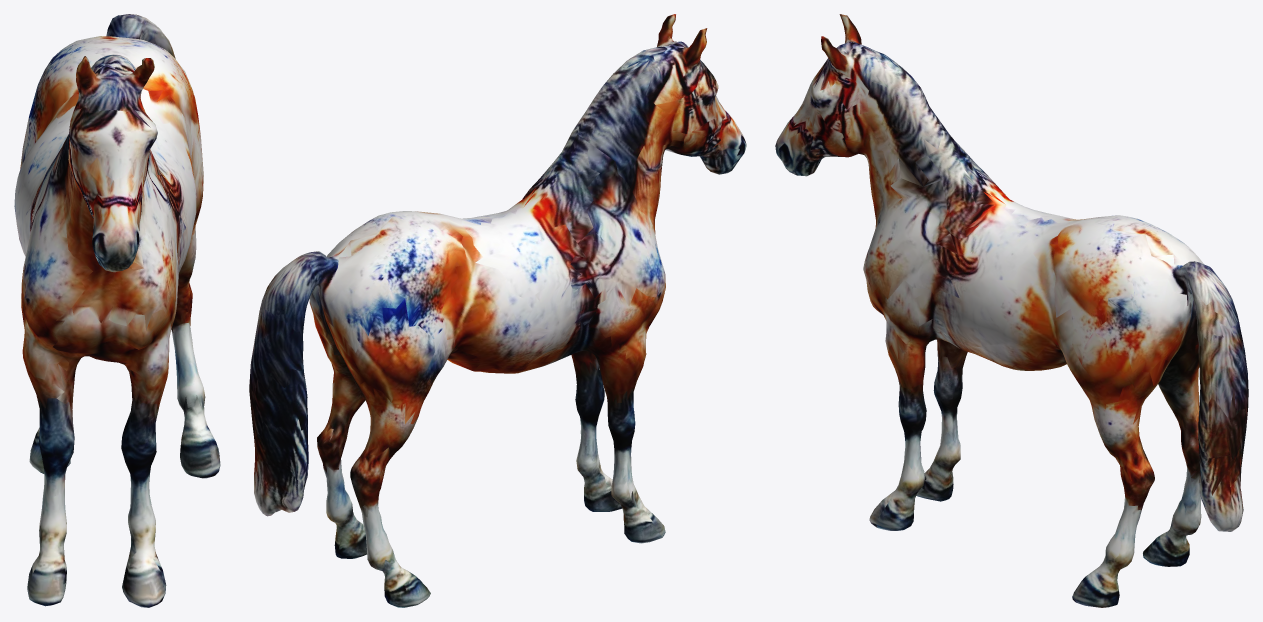
File: cavalo-2.glb
The picture shows the model from 3 angles, left to right: view 1: azimuth 30°, elevation 25°; view 2: azimuth 150°, elevation 25°; view 3: azimuth 270°, elevation 25°; orthographic projection. The views are drawn at different scales.
Visible parts, largest first — view 1: Horse.001; view 2: Horse.001; view 3: Horse.001.
Boxes of the visible parts, x1,y1,x2,y2 form: Horse.001: [14, 14, 220, 607]; Horse.001: [249, 14, 746, 607]; Horse.001: [775, 14, 1248, 607].
Size of the model in its own units: 1.32 by 2.2 by 1.95.
1 material, 1 textured.
